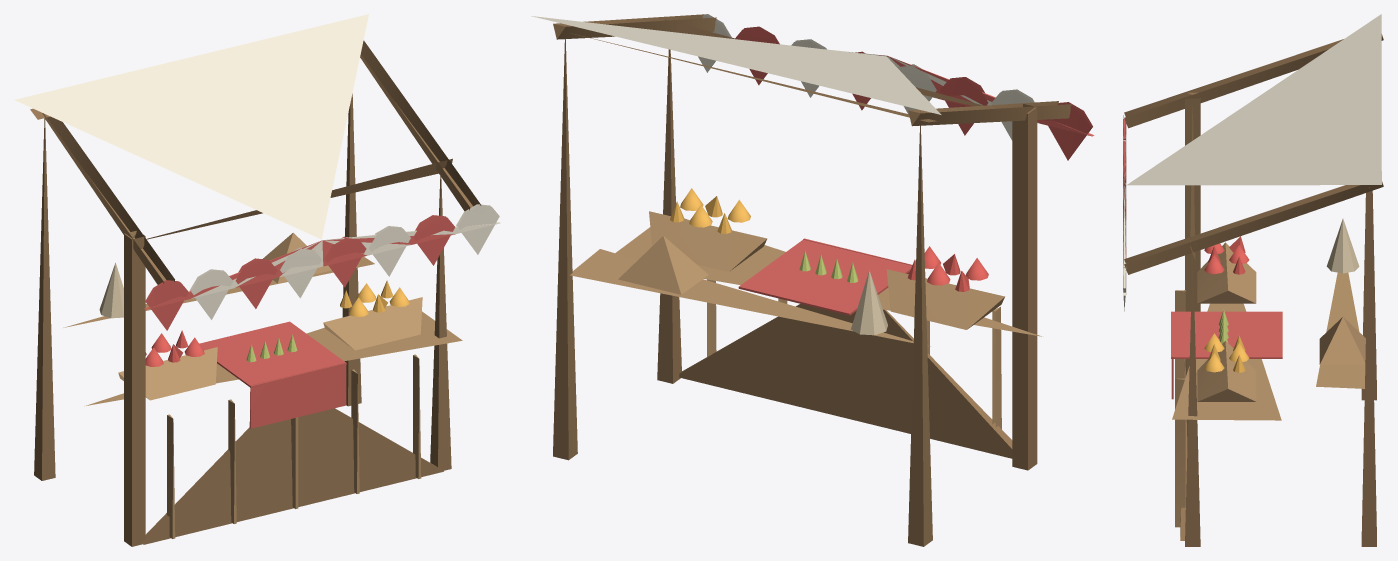
The model's file is generated.market_stall.gltf.
3 renders of one model, left to right at view 1: azimuth 30°, elevation 25°; view 2: azimuth 150°, elevation 25°; view 3: azimuth 270°, elevation 25°, orthographic. The views are drawn at different scales.
Visible parts, largest first — view 1: market_stall_red; view 2: market_stall_red; view 3: market_stall_red.
Boxes of the visible parts, bbox=[...] form: market_stall_red: bbox=[14, 14, 500, 546]; market_stall_red: bbox=[531, 14, 1094, 546]; market_stall_red: bbox=[1123, 14, 1383, 546].
Size of the model in its own units: 2.67 by 2.64 by 1.68.
